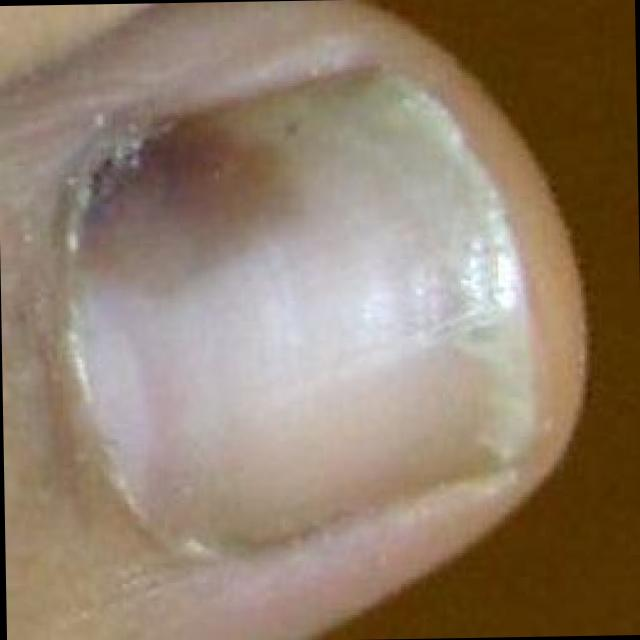Nail: (70, 66, 528, 557)
